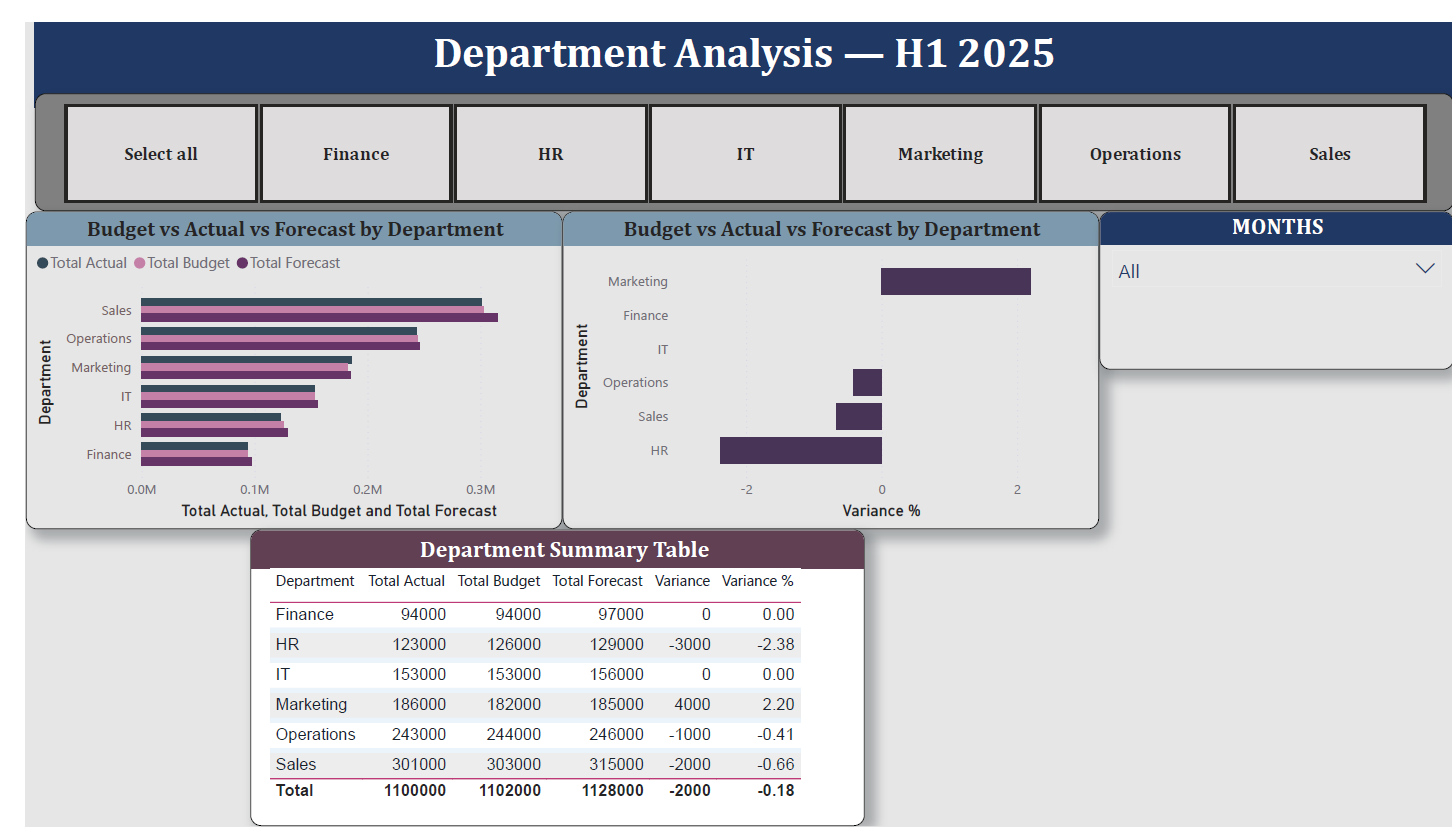

What the dashboard file says about the page in this screenshot:
{"tool":"powerbi","page":{"name":"Department Analysis","canvas":[1280,720],"ordinal":1},"visuals":[{"type":"textbox","box":[8.4,0,1271.6,76],"z":0},{"type":"slicer","fields":{"Values":["Departments.Department"]},"box":[8.4,62.7,1271.6,106.2],"z":1000},{"type":"clusteredBarChart","title":"Budget vs Actual vs Forecast by Department","fields":{"Category":["Departments.Department"],"Y":["Budget.Total Actual","Budget.Total Budget","Budget.Total Forecast"]},"box":[0,168.6,481.2,285.5],"z":2000},{"type":"clusteredBarChart","title":"Budget vs Actual vs Forecast by Department","fields":{"Category":["Departments.Department"],"Y":["Budget.Variance %"]},"box":[481.2,168.6,481.2,285.5],"z":3000},{"type":"tableEx","title":"Department Summary Table","fields":{"Values":["Departments.Department","Budget.Total Actual","Budget.Total Budget","Budget.Total Forecast","Budget.Variance","Budget.Variance %"]},"box":[201.5,453.6,550.1,266.6],"z":4000},{"type":"slicer","title":"MONTHS","fields":{"Values":["Months.Month"]},"box":[962.5,168.6,317.5,142.8],"z":5000}]}

Visuals, with their boxes in screenshot pixels (x1, y1, x2, y2), scaled from the page's 1280x720 canvas onto the 1452x832 screenshot:
textbox: 10/0/1451/88
slicer - Departments.Department: 10/72/1451/195
"Budget vs Actual vs Forecast by Department" clusteredBarChart: 0/195/546/525
"Budget vs Actual vs Forecast by Department" clusteredBarChart: 546/195/1092/525
"Department Summary Table" tableEx: 229/524/853/831
"MONTHS" slicer: 1092/195/1451/360
